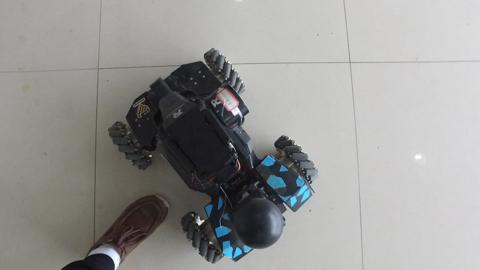chariot: (93, 50, 319, 247)
